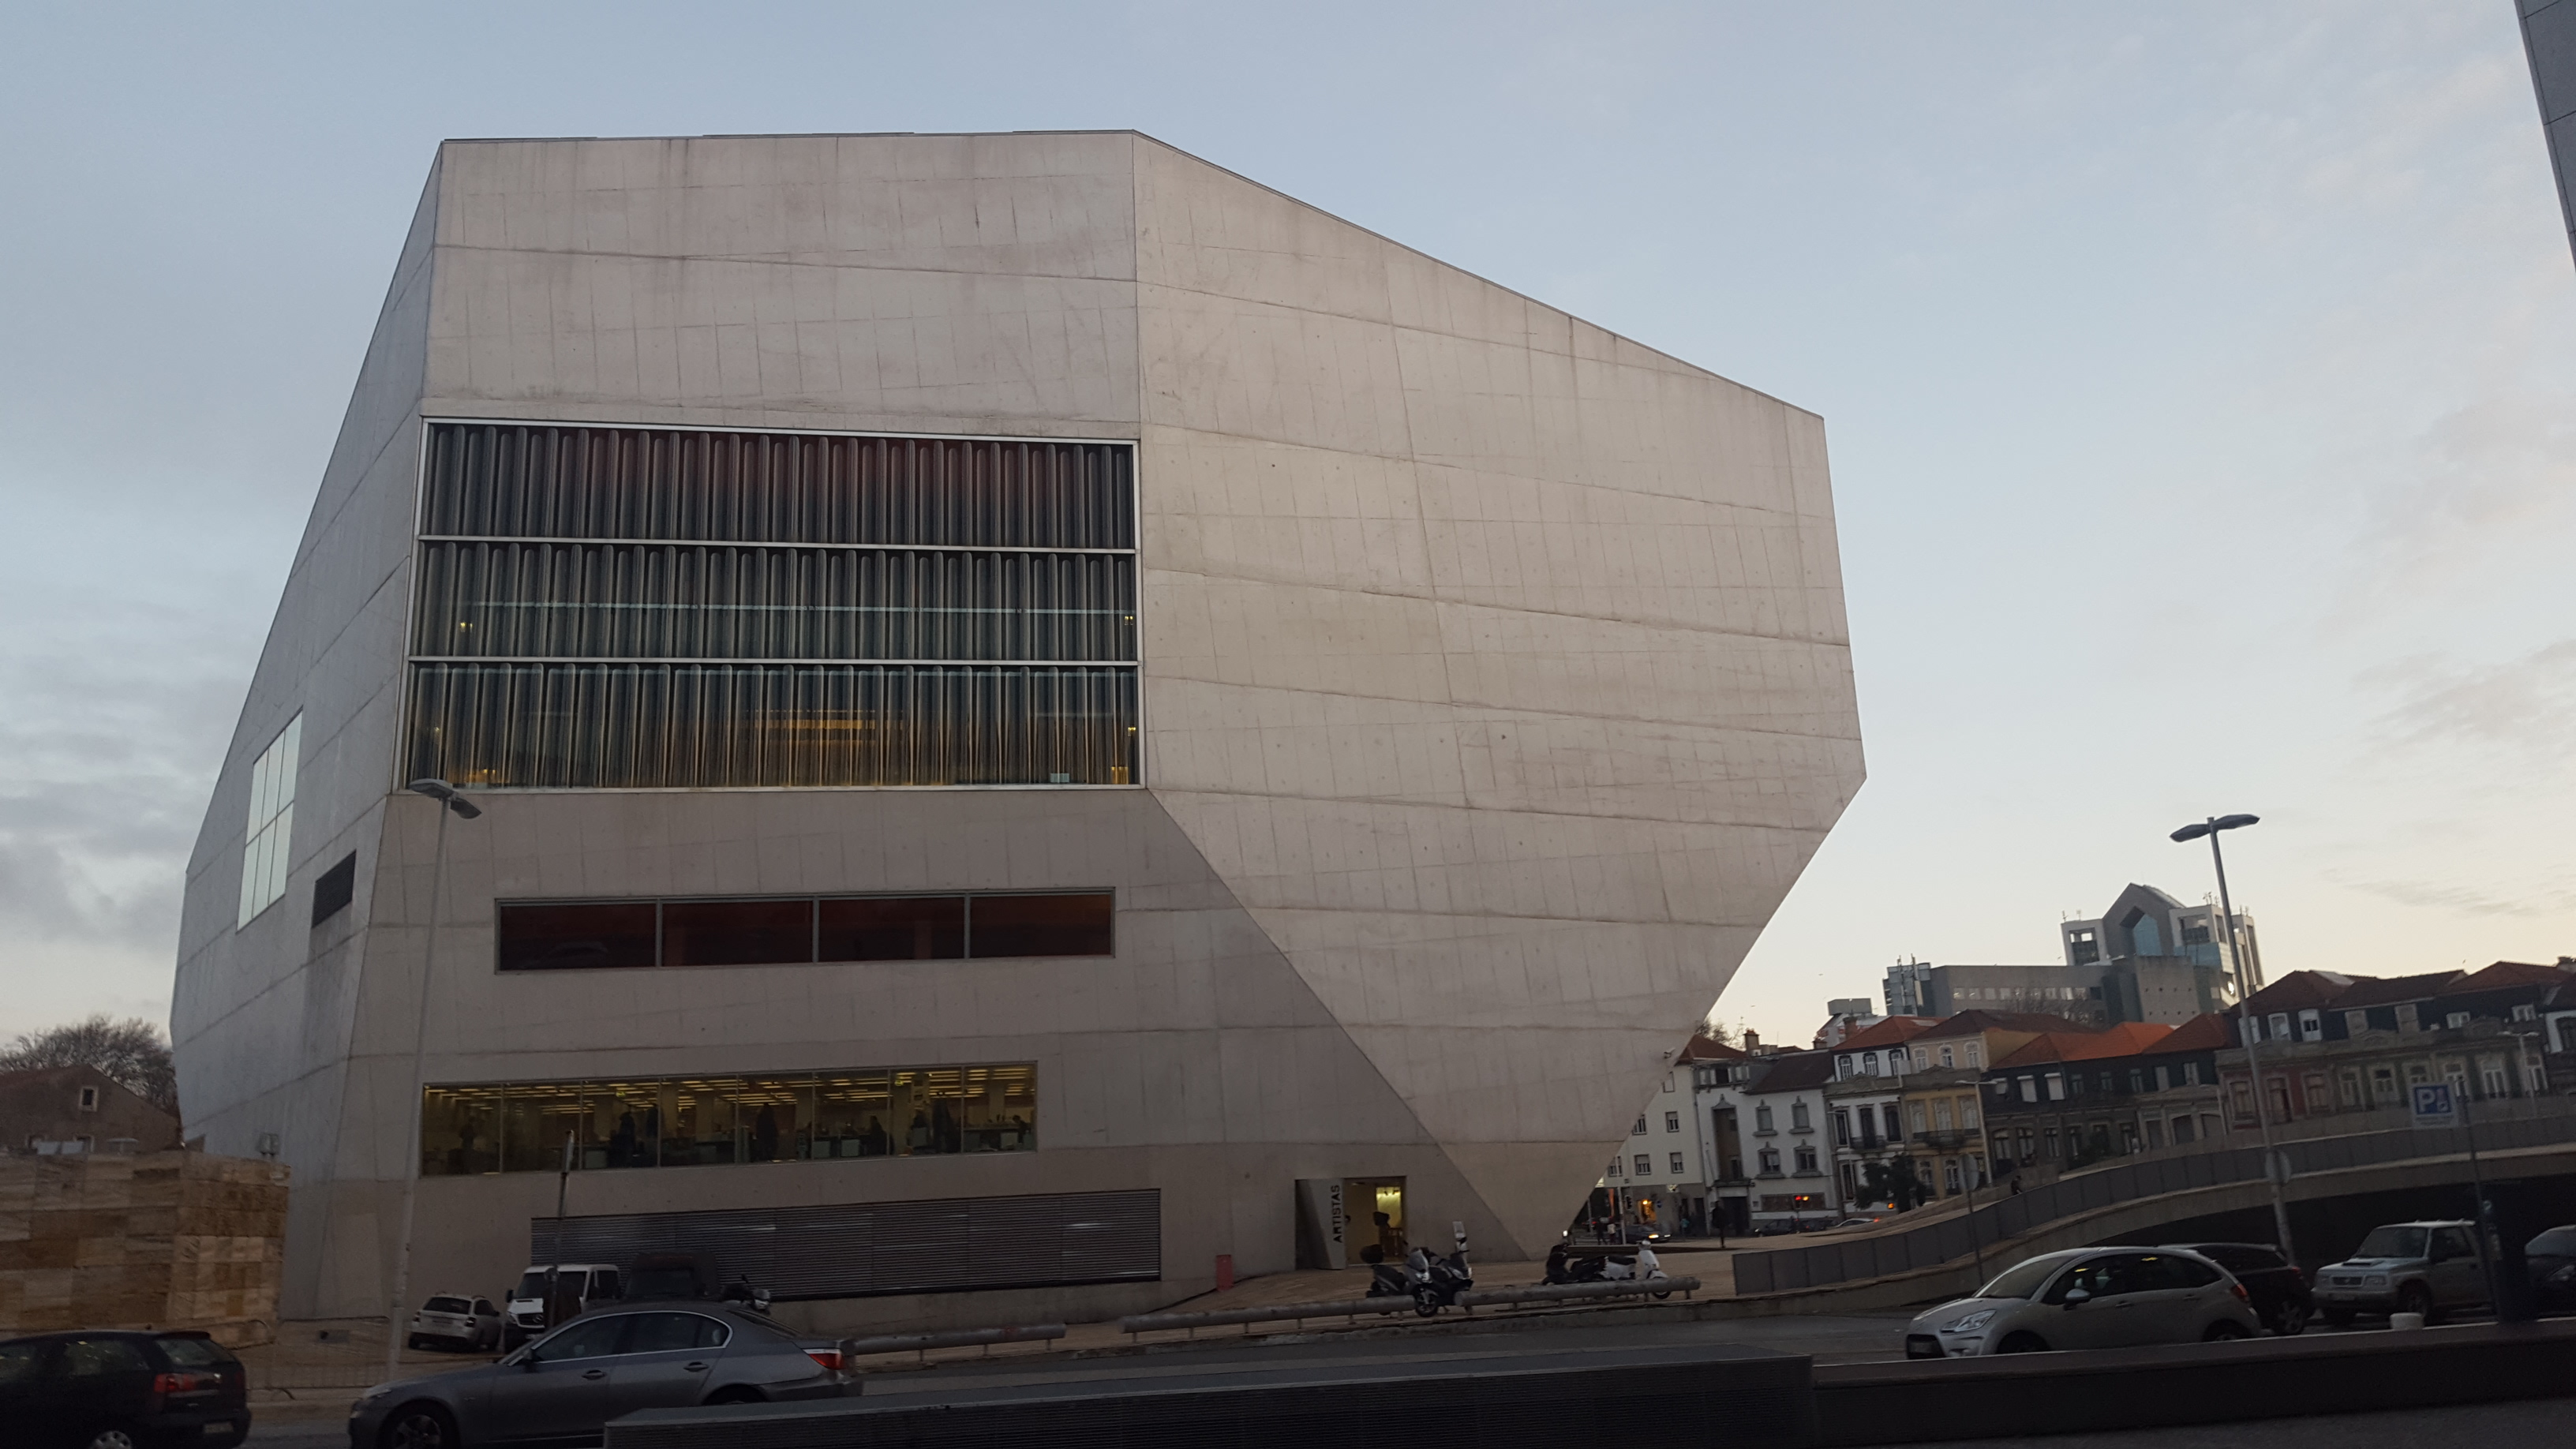musica: (150, 157, 1732, 1157)
